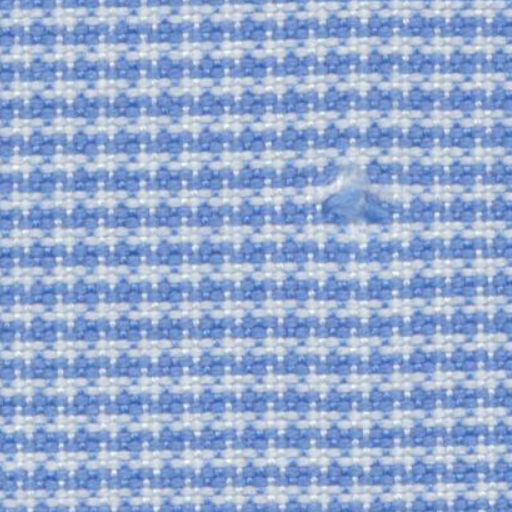MianQiu: (297, 158, 425, 240)
